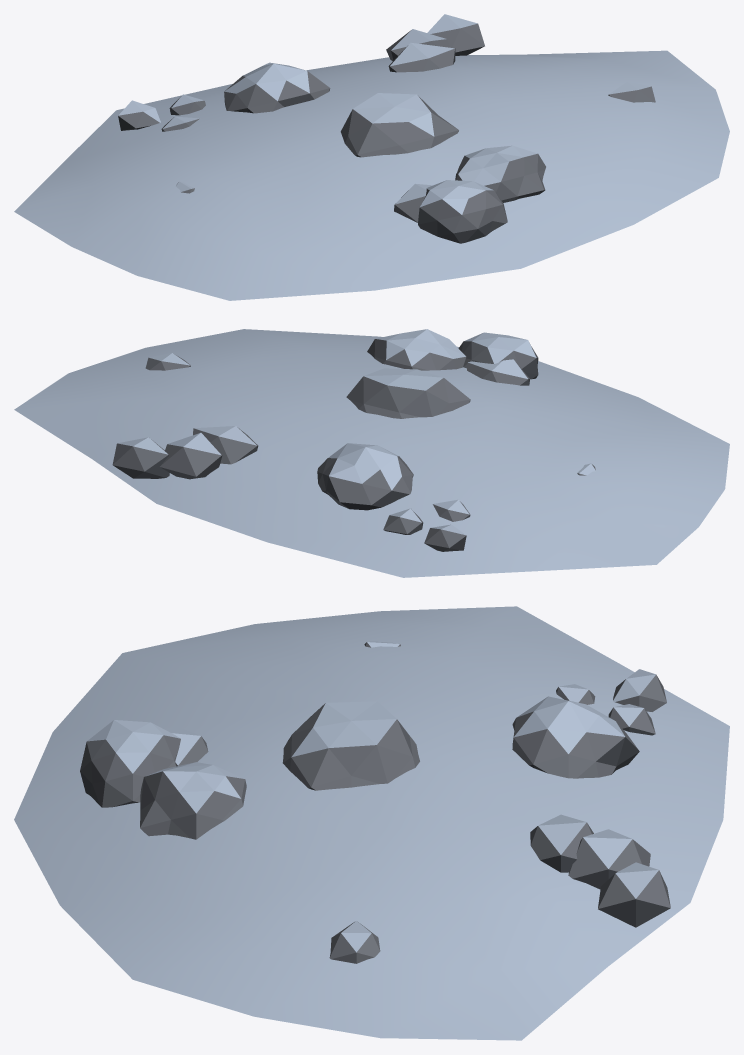
The model's file is scree_field.glb.
The picture shows the model from 3 angles, top to bottom: view 1: azimuth 30°, elevation 25°; view 2: azimuth 150°, elevation 25°; view 3: azimuth 270°, elevation 25°; orthographic projection. The views are drawn at different scales.
Parts seen in each view (by area): view 1: Rock; view 2: Rock; view 3: Rock.
Part boxes in pixels (x1=…): Rock: x1=14, y1=14, x2=729, y2=300; Rock: x1=14, y1=329, x2=729, y2=577; Rock: x1=14, y1=606, x2=729, y2=1040.
Size of the model in its own units: 4.98 by 0.531 by 3.47.
